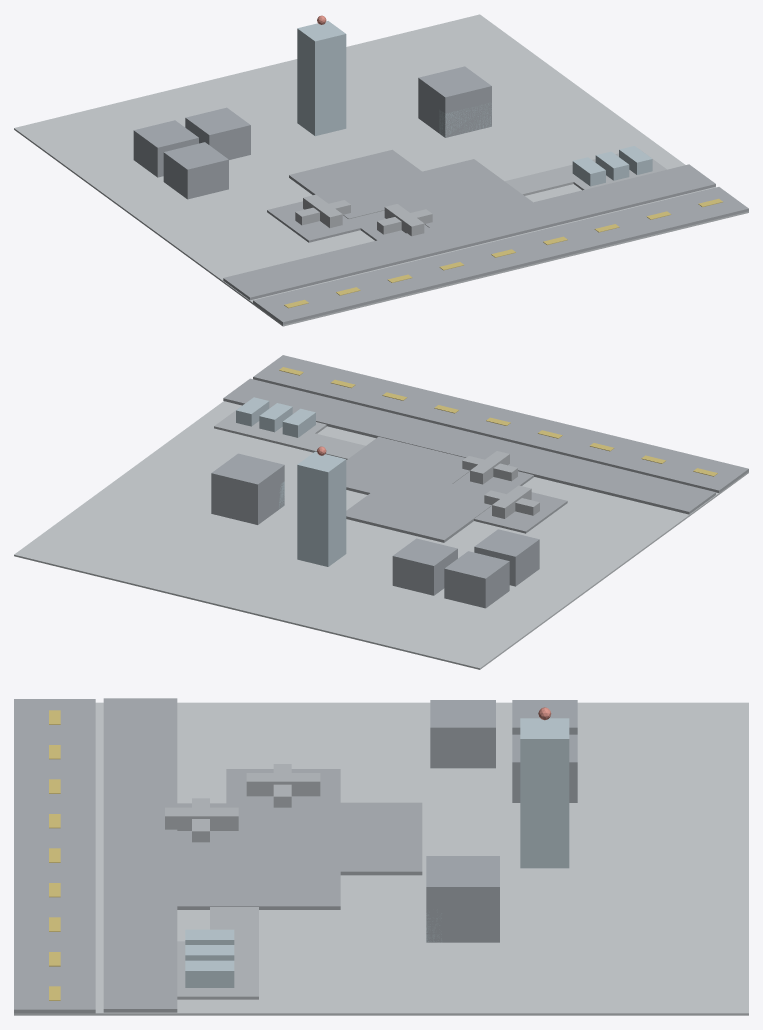
Rendered from stage_12.glb.
3 views of the same model, one above another, from view 1: azimuth 30°, elevation 25°; view 2: azimuth 150°, elevation 25°; view 3: azimuth 270°, elevation 25° (orthographic). The views are drawn at different scales.
Visible parts, largest first — view 1: geometry_0; view 2: geometry_0; view 3: geometry_0.
Part boxes in pixels (box(x1,y1,x2,y2)): geometry_0: box(14, 14, 748, 326); geometry_0: box(14, 355, 748, 669); geometry_0: box(14, 698, 748, 1015).
Bounding box in the file's own units: 9 × 2.06 × 9.
